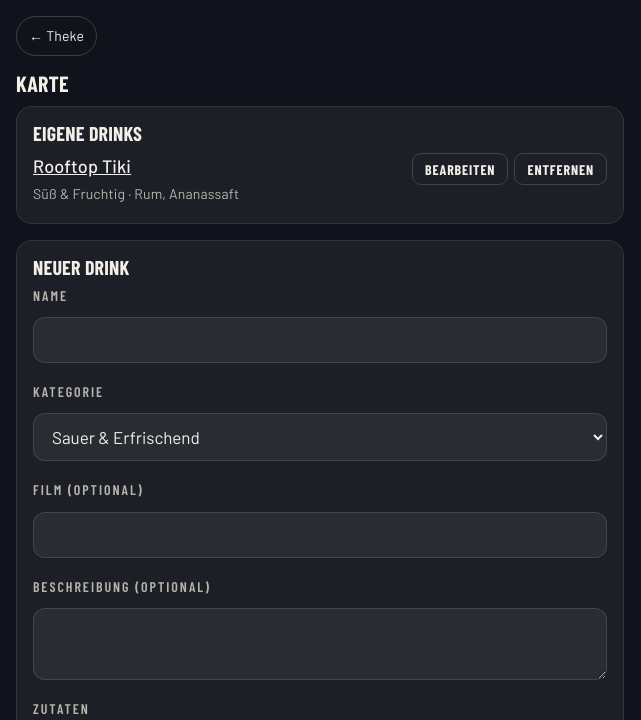
Test case: MenuEditorPage › editing › loads the drink into the form, including amounts with a comma
The image size is (641, 720).
Click the button with aria-label "Rooftop Tiki bearbeiten" at (460,169), box [412,153,508,185]
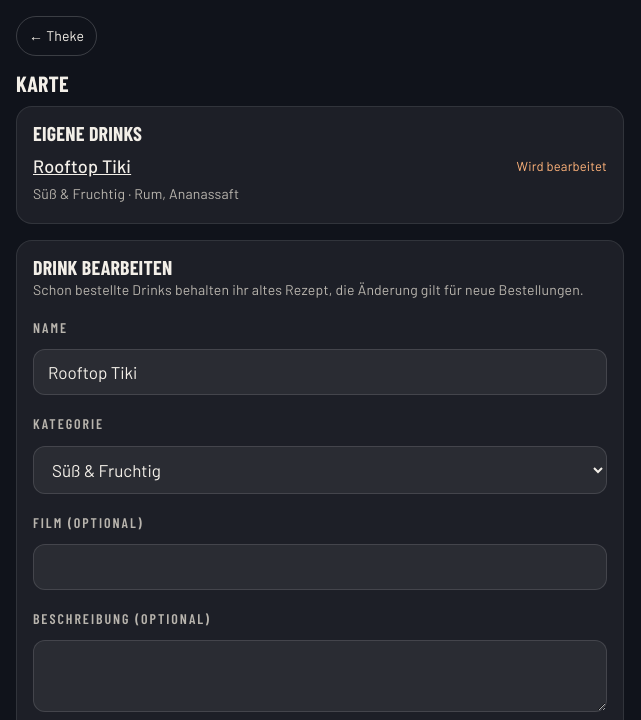
Expected: the heading "Drink bearbeiten" is shown, [33,255,172,279]
Expected: the field labelled "Name" holds "Rooftop Tiki", [33,350,607,396]
Expected: the dropdown labelled "Kategorie" shows "Süß & Fruchtig", [33,446,607,494]
